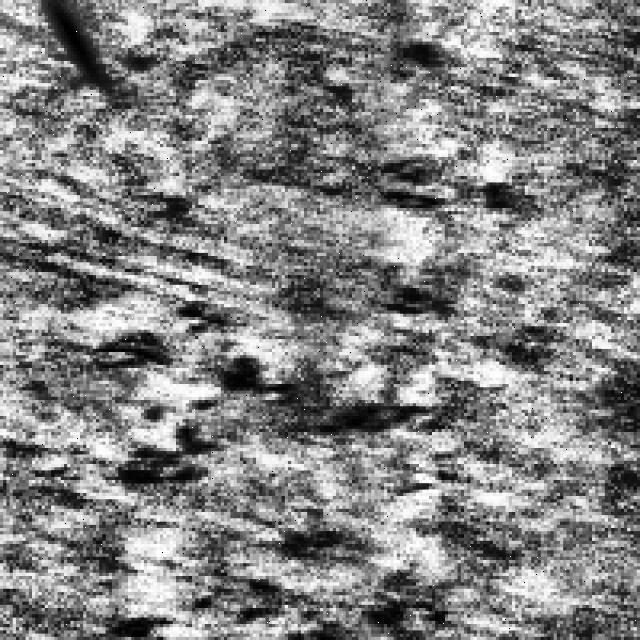Crazing: (92, 272, 502, 506), (333, 32, 525, 307)
